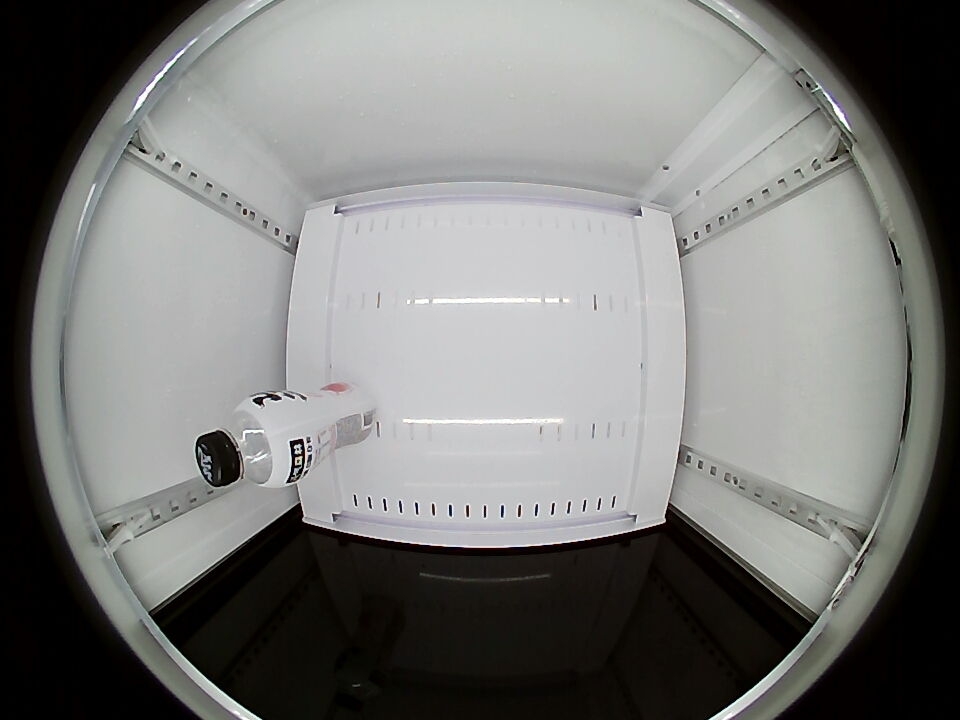yuanqishui: (195, 394, 302, 489)
